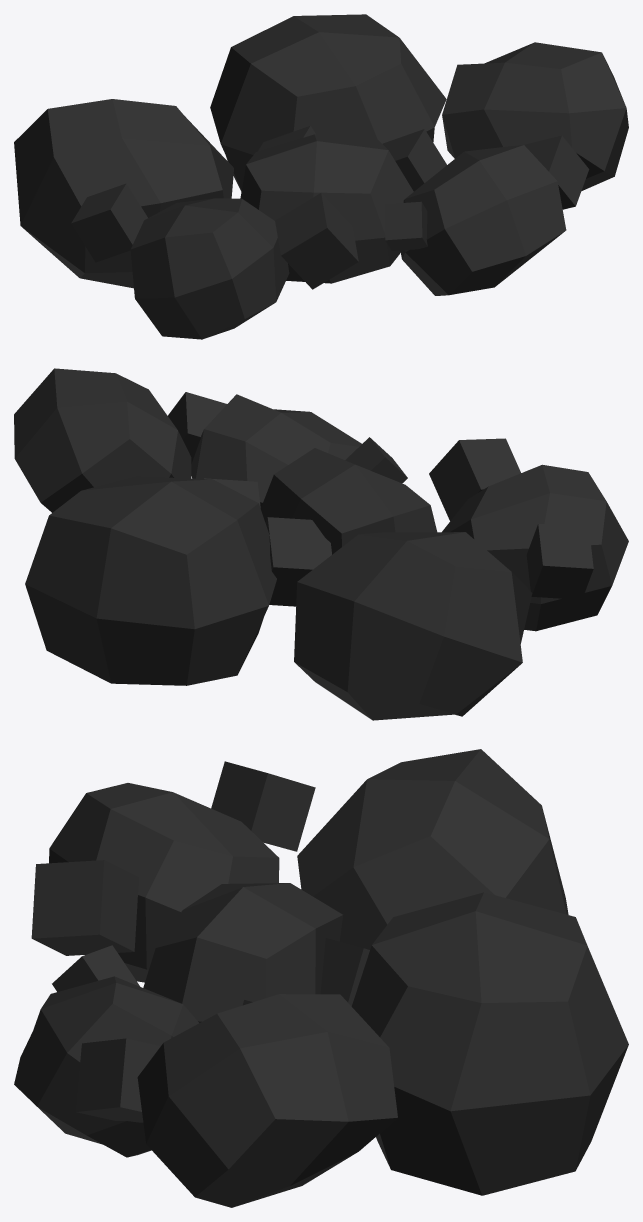
Rendered from Coal_in_furnace.fbx.
3 views of the same model, one above another, from view 1: azimuth 30°, elevation 25°; view 2: azimuth 150°, elevation 25°; view 3: azimuth 270°, elevation 25° (orthographic). The views are drawn at different scales.
Parts seen in each view (by area): view 1: Cylinder.001; view 2: Cylinder.001; view 3: Cylinder.001.
Part boxes in pixels (x1=…): Cylinder.001: x1=14, y1=14, x2=628, y2=339; Cylinder.001: x1=14, y1=368, x2=628, y2=720; Cylinder.001: x1=14, y1=749, x2=628, y2=1207.
Bounding box in the file's own units: 167 × 54.9 × 120.
